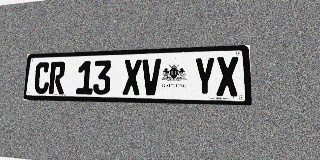1: (76, 61, 94, 94)
3: (93, 60, 111, 95)
C: (34, 62, 50, 94)
R: (48, 61, 66, 94)
V: (141, 59, 161, 95)
X: (216, 56, 239, 96), (122, 59, 142, 95)
Y: (194, 57, 216, 96)
